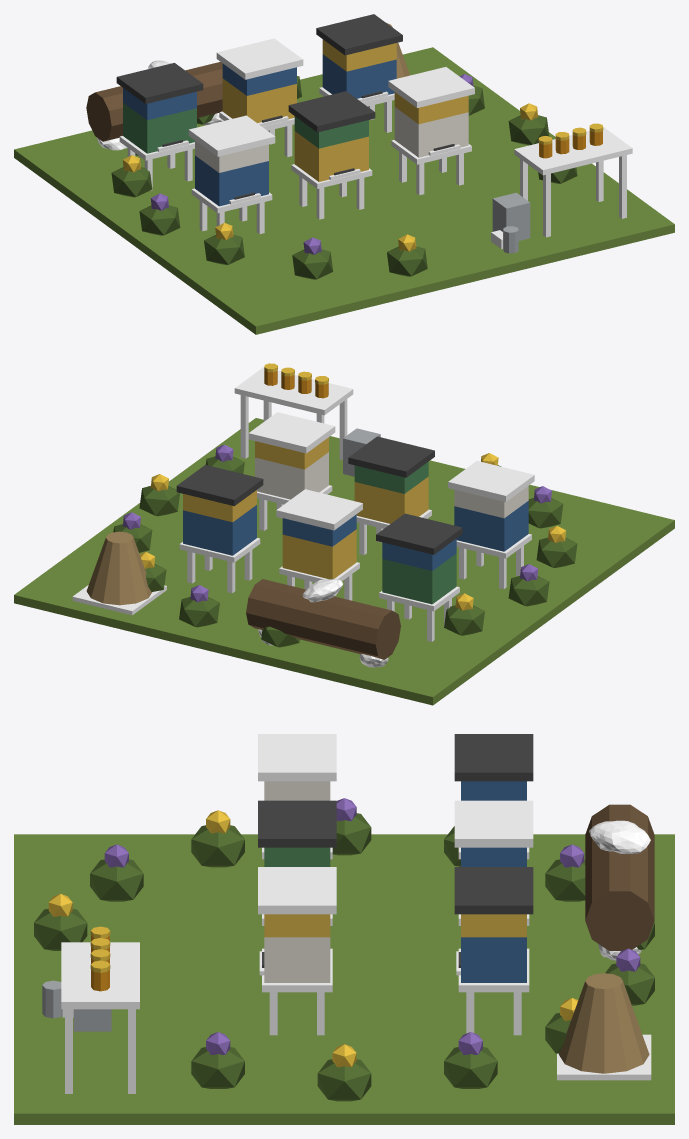
File: kovan.glb
3 renders of one model, top to bottom at view 1: azimuth 30°, elevation 25°; view 2: azimuth 150°, elevation 25°; view 3: azimuth 270°, elevation 25°, orthographic. The views are drawn at different scales.
Parts seen in each view (by area): view 1: Agiz; view 2: Agiz; view 3: Agiz.
Boxes of the visible parts, left/top/right/bottom form: Agiz: left=14, top=14, right=674, bottom=334; Agiz: left=14, top=363, right=674, bottom=705; Agiz: left=14, top=734, right=674, bottom=1124.
Bounding box in the file's own units: 1 × 0.2429 × 1.
